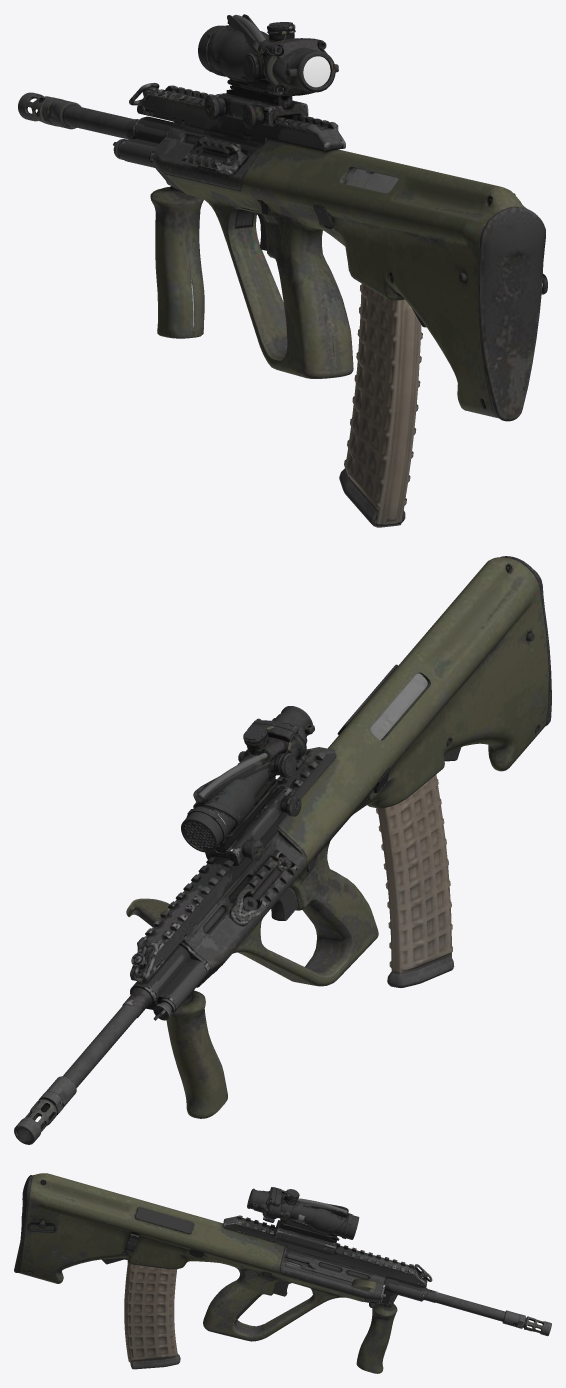
Rendered from p_aug.glb.
3 renders of one model, top to bottom at view 1: azimuth 30°, elevation 25°; view 2: azimuth 150°, elevation 25°; view 3: azimuth 270°, elevation 25°, orthographic. The views are drawn at different scales.
Visible parts, largest first — view 1: p_aug; view 2: p_aug; view 3: p_aug.
Boxes of the visible parts, bbox=[...] form: p_aug: bbox=[18, 14, 547, 527]; p_aug: bbox=[14, 556, 551, 1144]; p_aug: bbox=[14, 1173, 551, 1373].
Size of the model in its own units: 0.1343 by 0.3775 by 0.9314.
3 materials, 3 textured.
